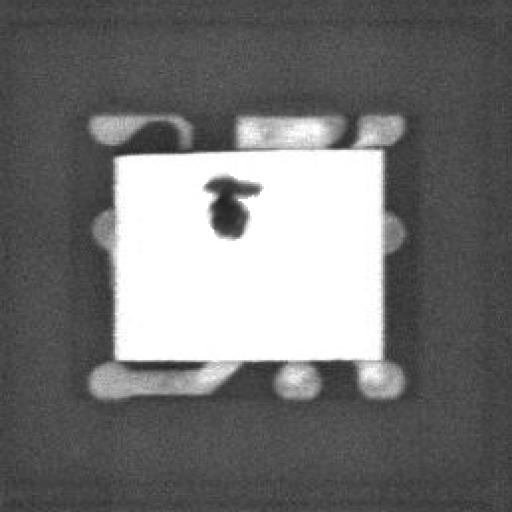DIE_INK: (192, 179, 248, 248)
